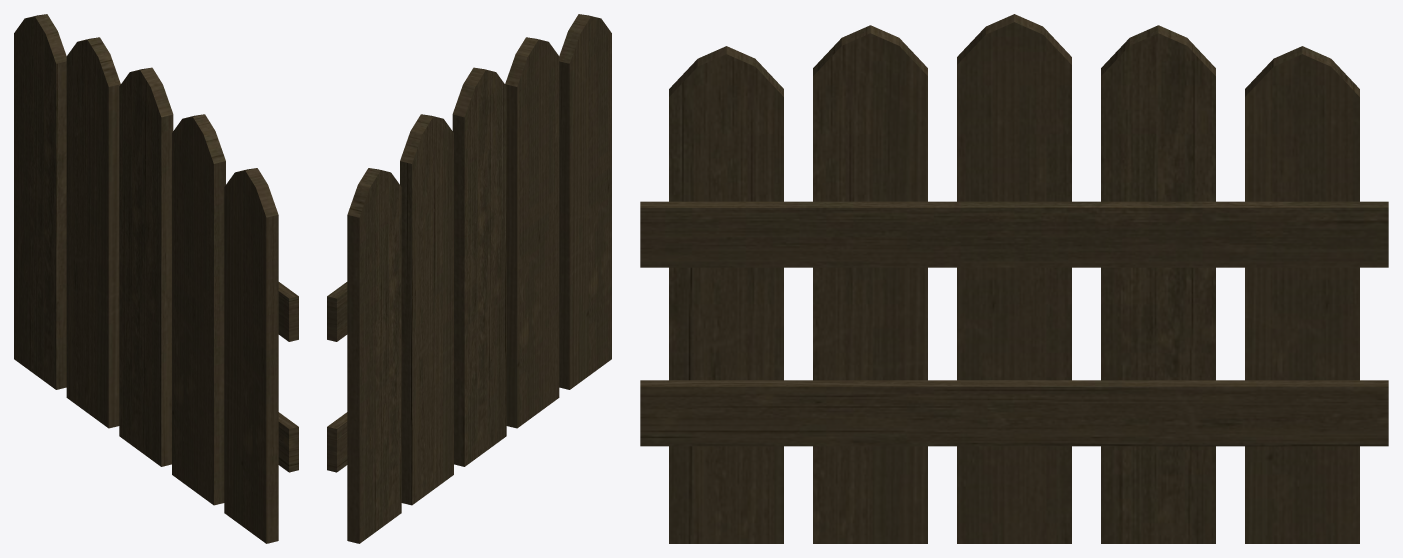
The model's file is FenceAnimation.glb.
3 views of the same model, side by side, from view 1: azimuth 30°, elevation 25°; view 2: azimuth 150°, elevation 25°; view 3: azimuth 270°, elevation 25° (orthographic). The views are drawn at different scales.
Parts seen in each view (by area): view 1: RigModels_Fence.1; view 2: RigModels_Fence.1; view 3: RigModels_Fence.1.
Part boxes in pixels (x1,y1,x2,y2): RigModels_Fence.1: (14, 14, 298, 543); RigModels_Fence.1: (327, 14, 611, 543); RigModels_Fence.1: (640, 14, 1388, 543).
Bounding box in the file's own units: 0.1154 × 1.92 × 2.5.
1 material, 1 textured.
